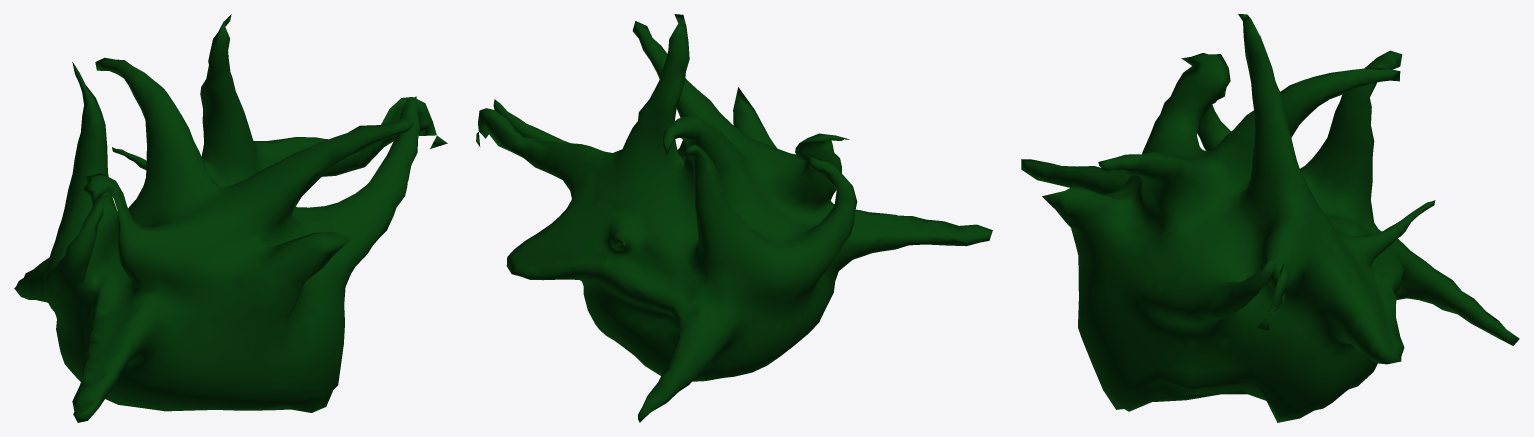
The model's file is jump_cthulhu_007.obj.
3 renders of one model, left to right at view 1: azimuth 30°, elevation 25°; view 2: azimuth 150°, elevation 25°; view 3: azimuth 270°, elevation 25°, orthographic. The views are drawn at different scales.
Parts seen in each view (by area): view 1: Cube; view 2: Cube; view 3: Cube.
Boxes of the visible parts, x1,y1,x2,y2 form: Cube: (14,14,447,422); Cube: (476,14,992,422); Cube: (1021,14,1519,422).
Size of the model in its own units: 1.28 by 0.9402 by 1.08.
